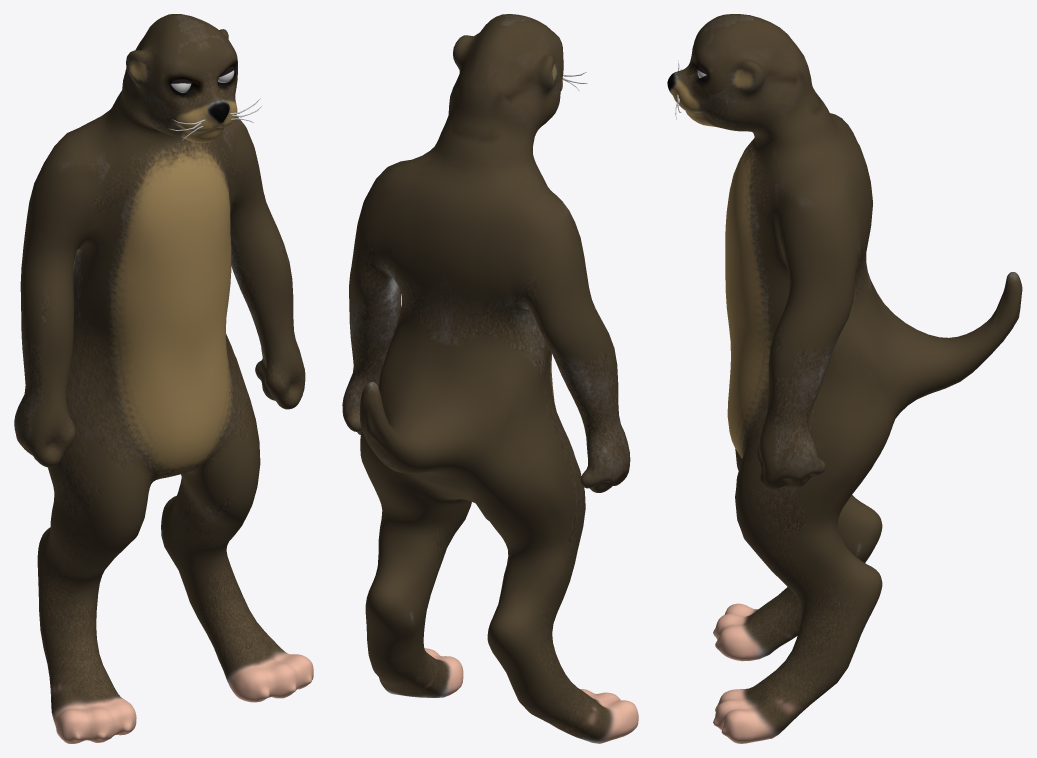
File: OTTER.fbx
The picture shows the model from 3 angles, left to right: view 1: azimuth 30°, elevation 25°; view 2: azimuth 150°, elevation 25°; view 3: azimuth 270°, elevation 25°; orthographic projection. The views are drawn at different scales.
Parts seen in each view (by area): view 1: Otter; view 2: Otter; view 3: Otter.
Part boxes in pixels (bbox=[...]): Otter: bbox=[14, 14, 313, 743]; Otter: bbox=[342, 14, 638, 743]; Otter: bbox=[667, 14, 1022, 743].
Bounding box in the file's own units: 16.85 × 40.34 × 19.32.
